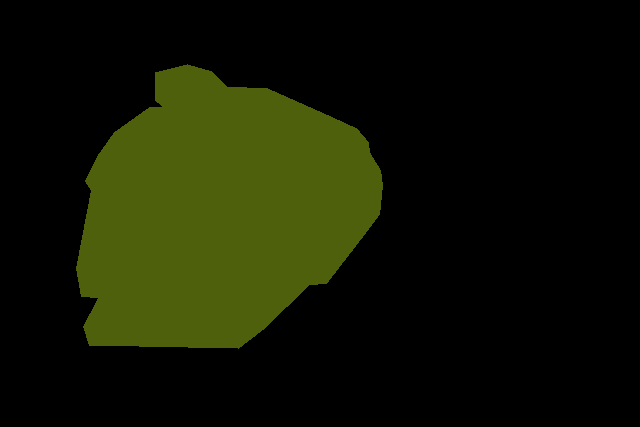Train: (76, 64, 383, 349)
